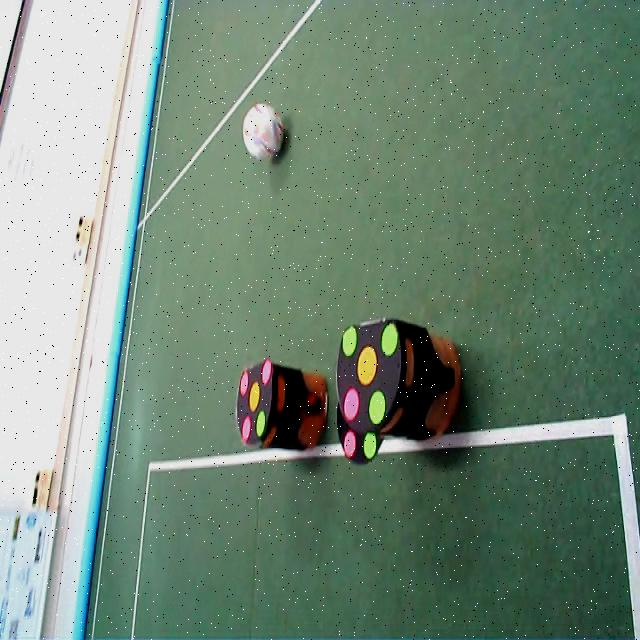ball: (244, 104, 284, 160)
